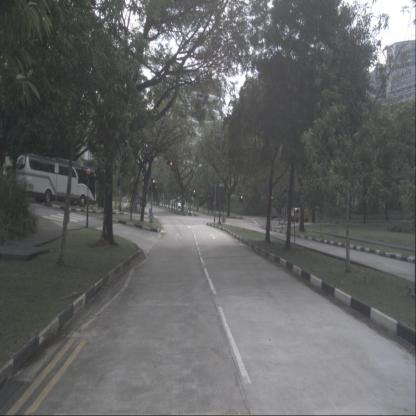vehicle-bus-rigid: (15, 152, 97, 208)
vehicle-car: (290, 207, 310, 223), (177, 202, 181, 209)
